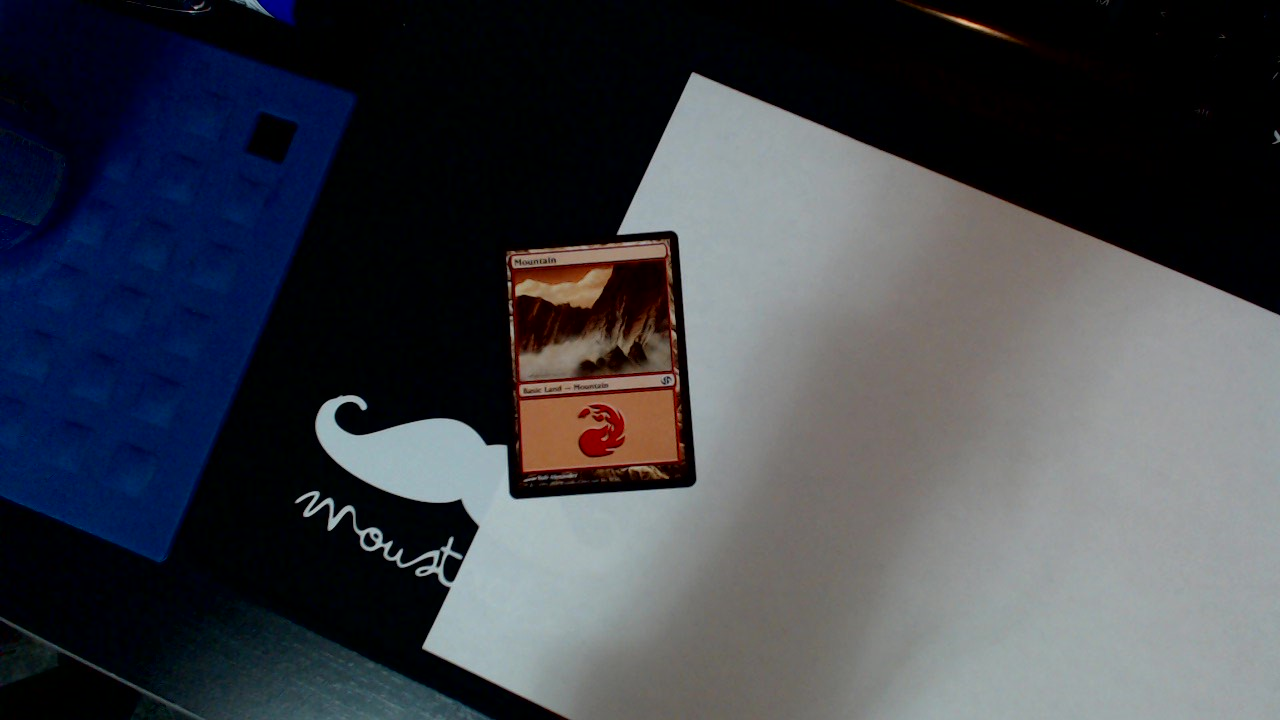MTG Card: (496, 227, 697, 504)
